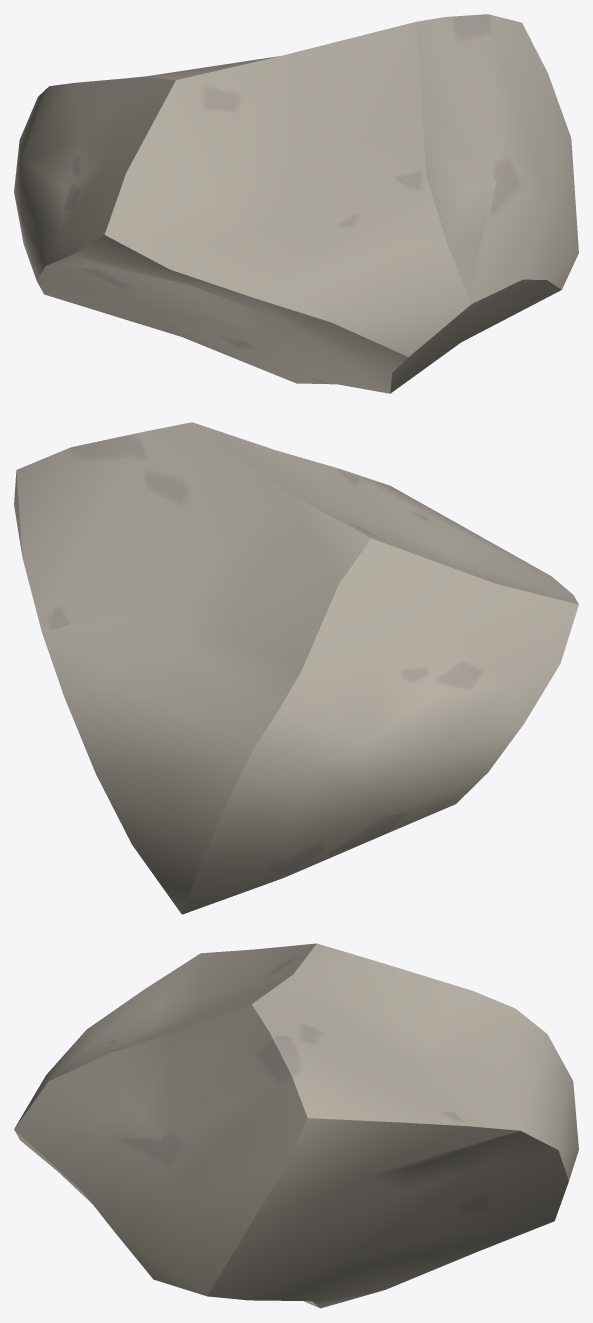
File: Rock 7.fbx
3 renders of one model, top to bottom at view 1: azimuth 30°, elevation 25°; view 2: azimuth 150°, elevation 25°; view 3: azimuth 270°, elevation 25°, orthographic. The views are drawn at different scales.
Parts seen in each view (by area): view 1: Rock 7; view 2: Rock 7; view 3: Rock 7.
Part boxes in pixels (<box>): Rock 7: <box>14,14,578,393</box>; Rock 7: <box>14,422,578,914</box>; Rock 7: <box>14,943,578,1308</box>.
Size of the model in its own units: 150 by 105 by 158.
